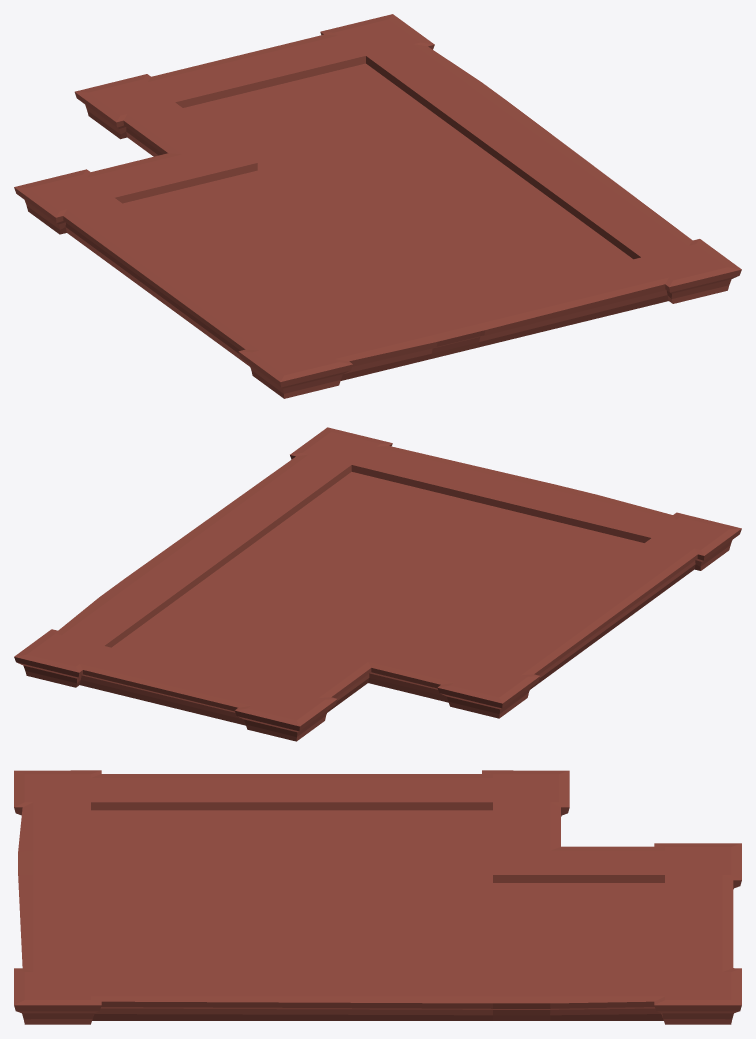
File: enter_top_1.glb
3 renders of one model, top to bottom at view 1: azimuth 30°, elevation 25°; view 2: azimuth 150°, elevation 25°; view 3: azimuth 270°, elevation 25°, orthographic. The views are drawn at different scales.
Visible parts, largest first — view 1: enter_top_1; view 2: enter_top_1; view 3: enter_top_1.
Part boxes in pixels (x1,y1,x2,y2): enter_top_1: (14, 14, 741, 398); enter_top_1: (14, 427, 741, 741); enter_top_1: (14, 770, 741, 1024).
Size of the model in its own units: 8.06 by 0.3919 by 10.56.
